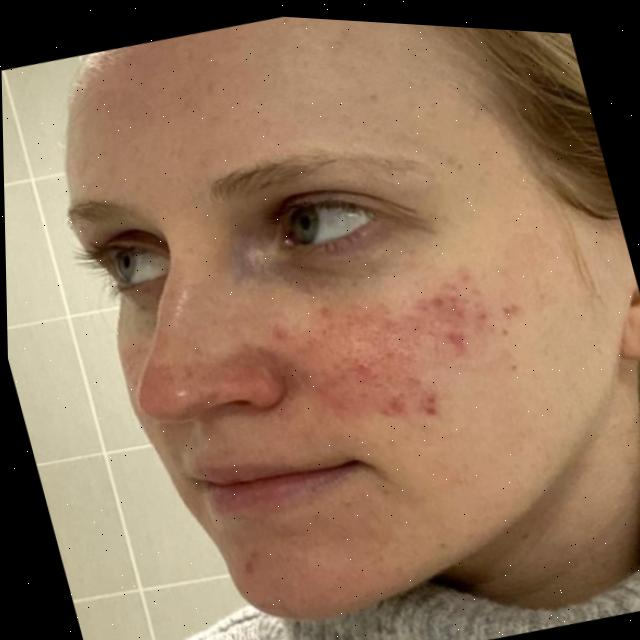Rosacea: (145, 251, 521, 469)
